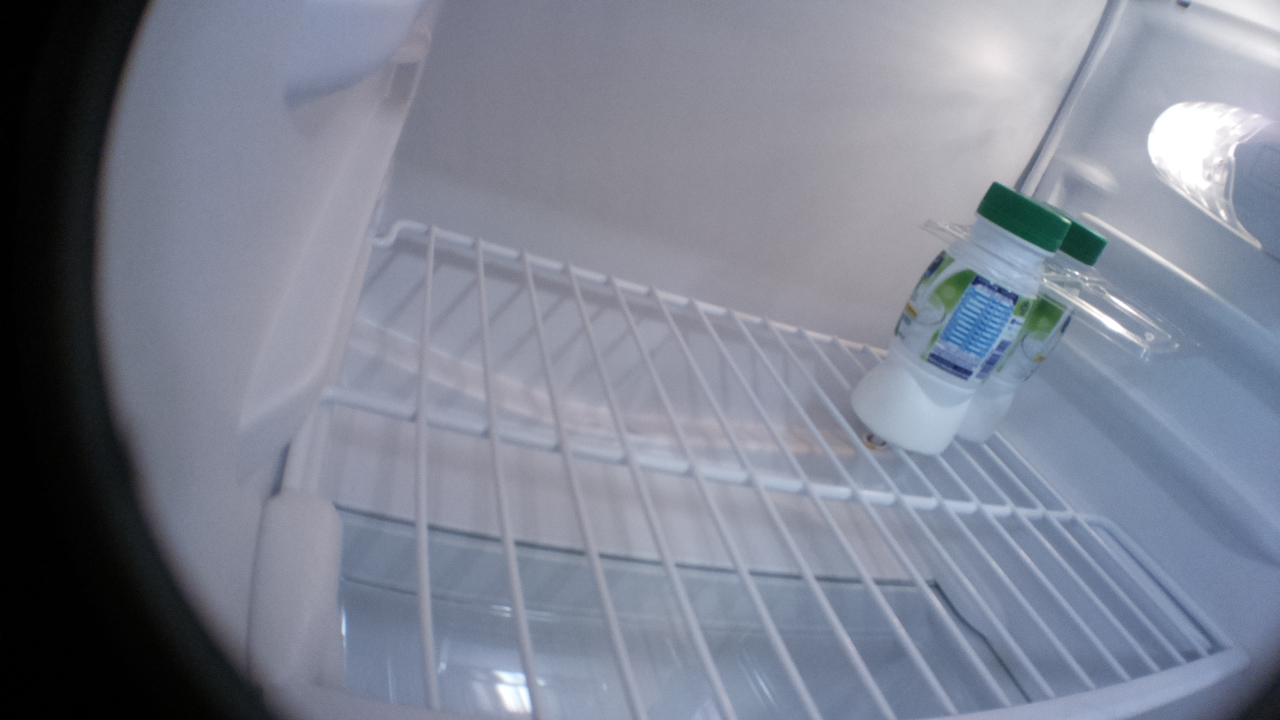laban: (849, 173, 1069, 480), (953, 196, 1107, 444)
